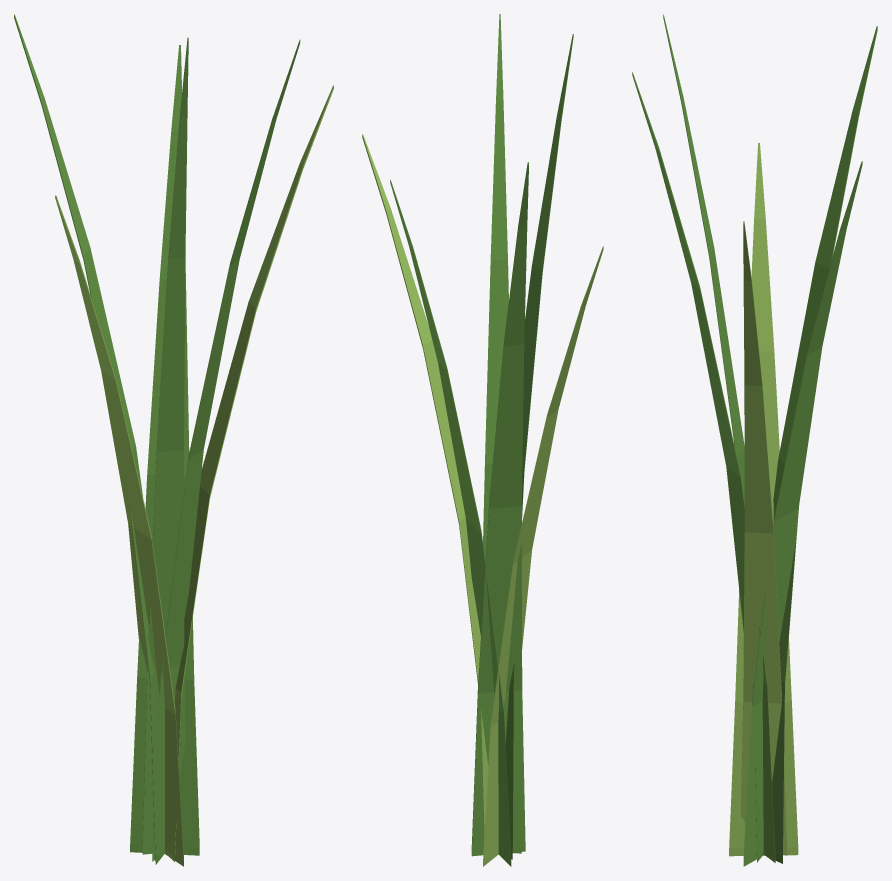
The model's file is SM_Reed_Clump.fbx.
3 views of the same model, side by side, from view 1: azimuth 30°, elevation 25°; view 2: azimuth 150°, elevation 25°; view 3: azimuth 270°, elevation 25° (orthographic). The views are drawn at different scales.
Parts seen in each view (by area): view 1: SM_Reed_Clump; view 2: SM_Reed_Clump; view 3: SM_Reed_Clump.
Part boxes in pixels (left/top/right/bottom): SM_Reed_Clump: left=14, top=14, right=333, bottom=866; SM_Reed_Clump: left=362, top=14, right=603, bottom=866; SM_Reed_Clump: left=632, top=14, right=877, bottom=866.
Bounding box in the file's own units: 0.3303 × 1.01 × 0.2709.
